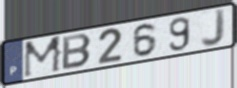2: (97, 26, 126, 67)
6: (132, 21, 159, 57)
9: (167, 16, 192, 52)
B: (61, 32, 94, 71)
J: (199, 7, 227, 48)
M: (22, 34, 64, 80)
